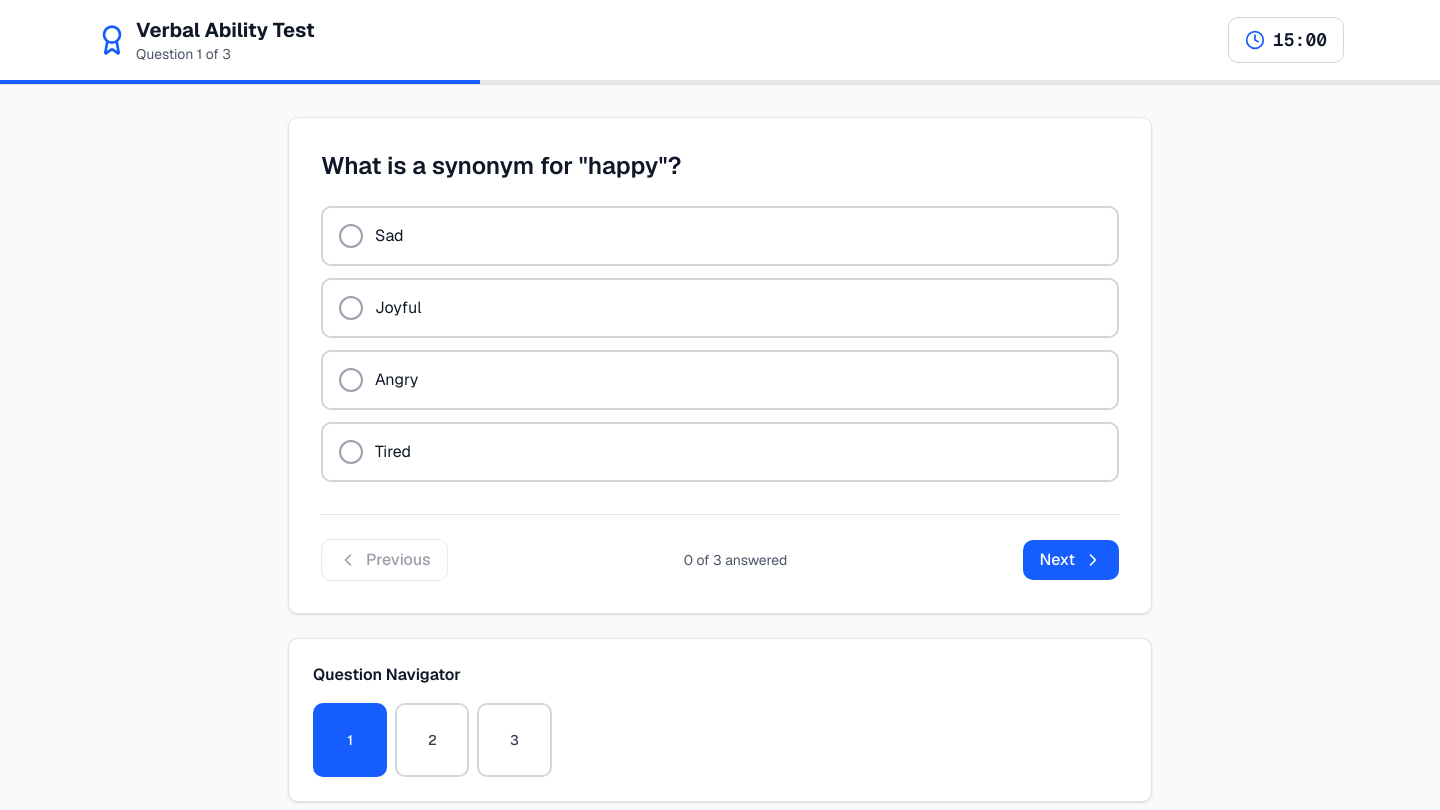
Test case: TestTaker Component › navigates to next question when Next button is clicked
Step 1. Click the button "Next" → (1071, 560), box [1023, 540, 1119, 580]
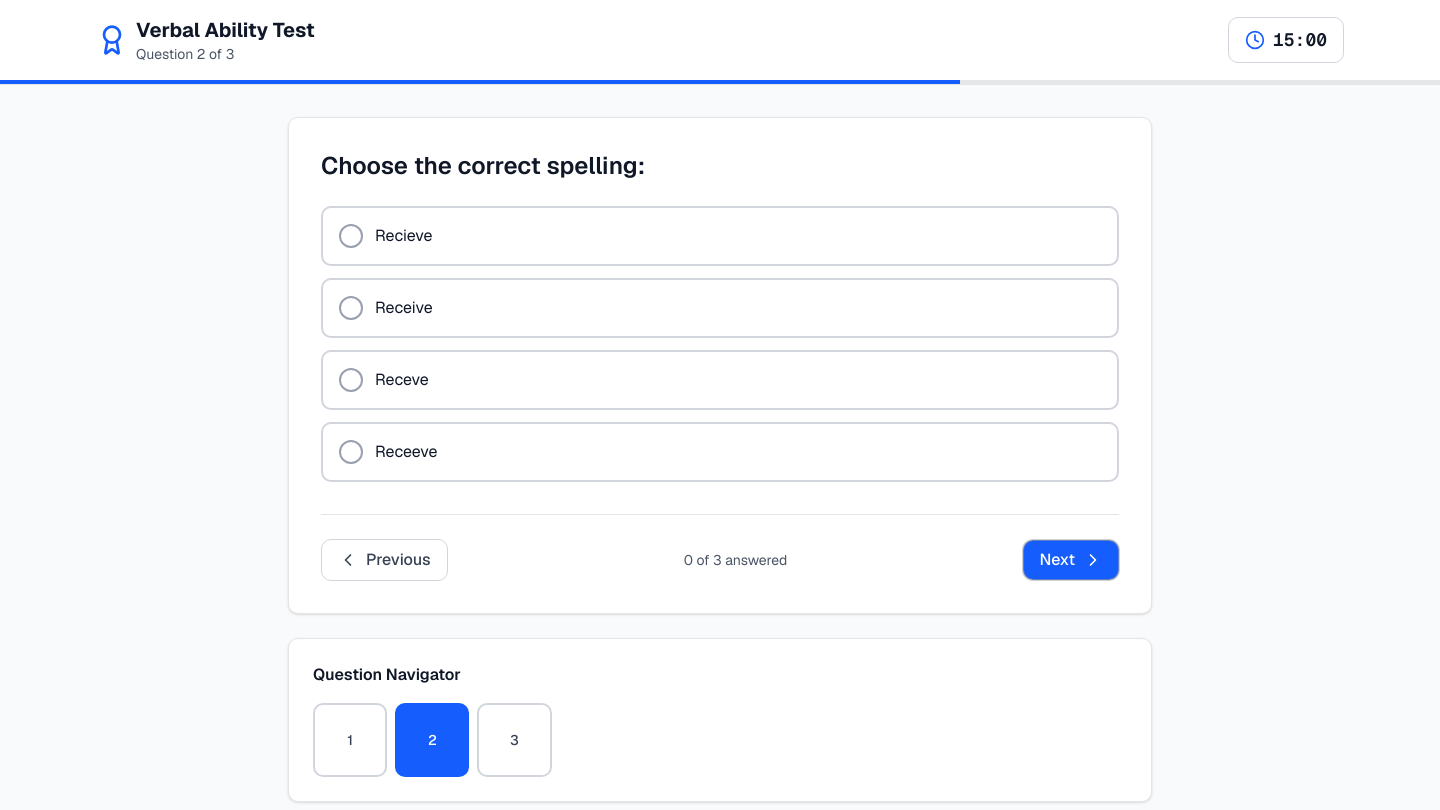
Check: the heading "Choose the correct spelling:" is shown, box [321, 150, 645, 181]
Check: the text "Question 2 of 3" is shown, box [136, 45, 234, 63]
